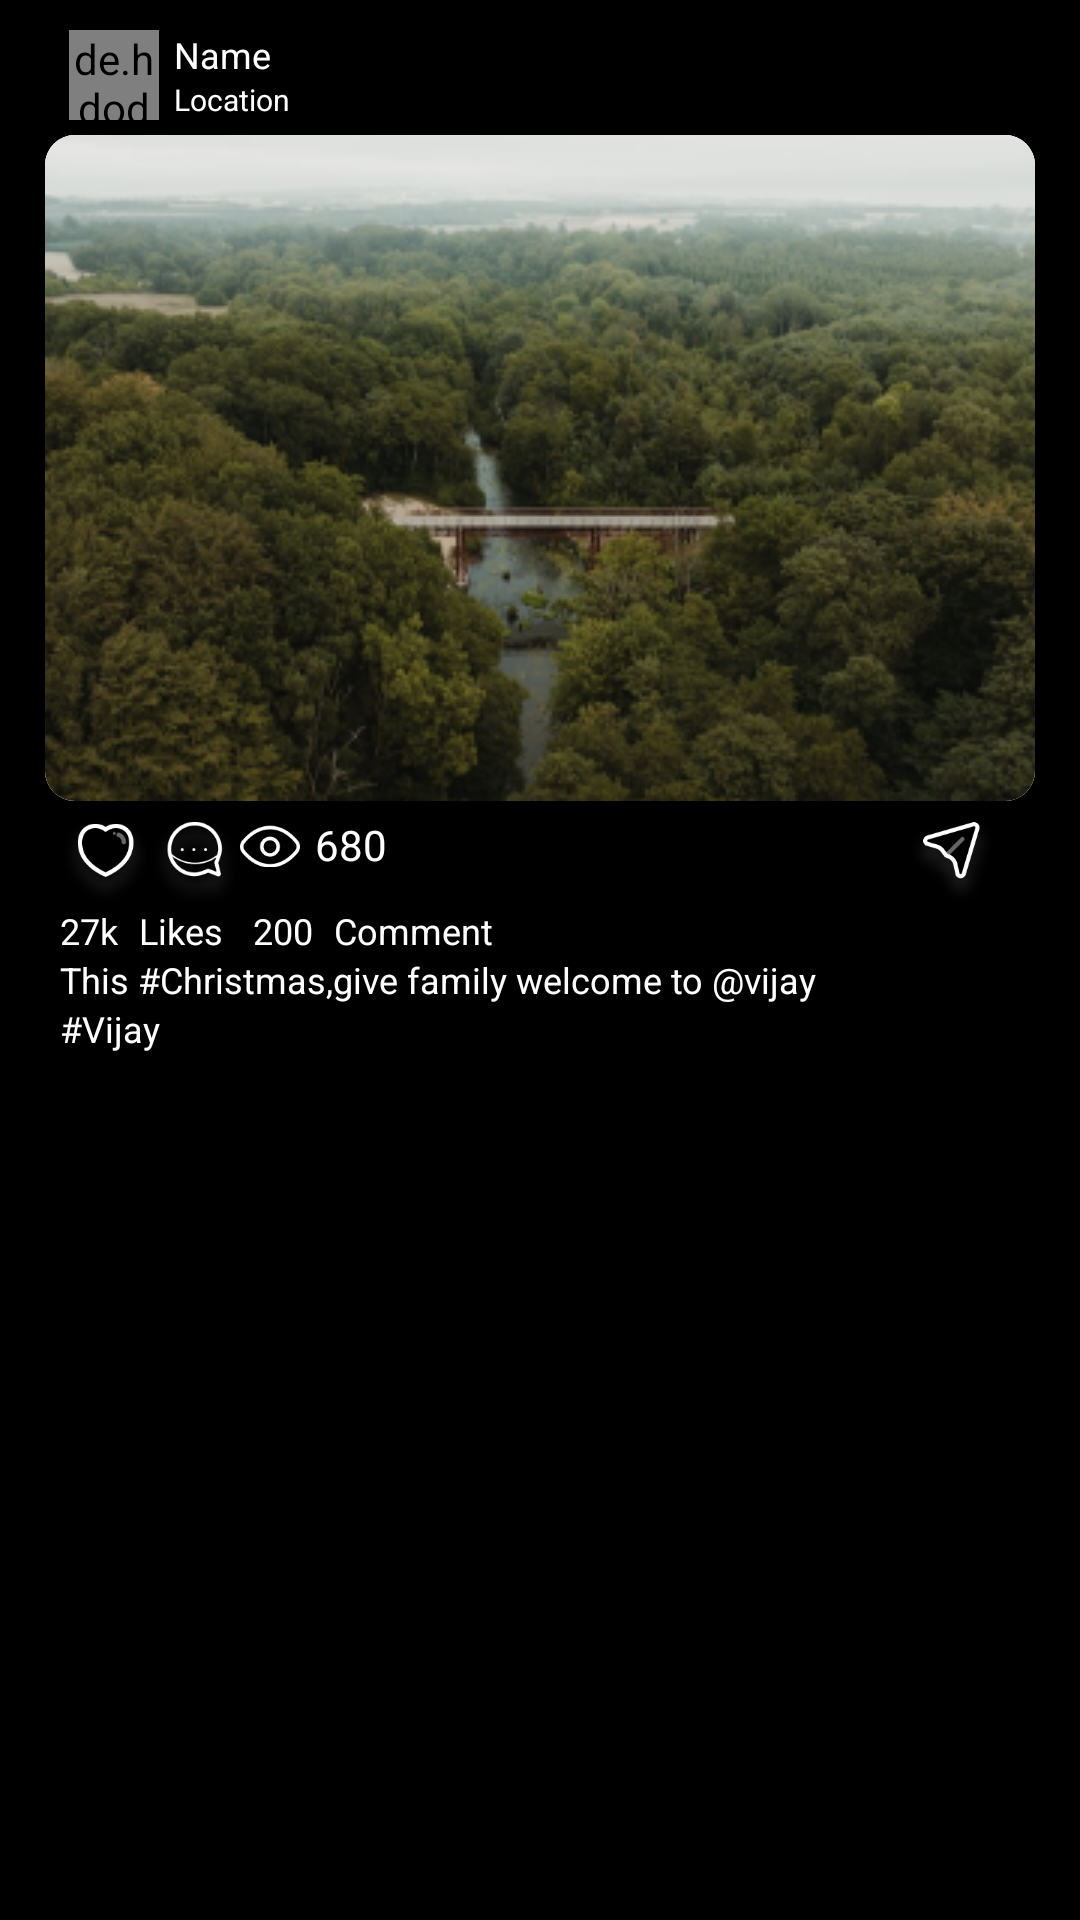

Locate icon controls on the screen. Image size 1080x1920, boxes as (x1, y1, x2, y2).
heart: (78, 824, 134, 877)
send: (923, 822, 980, 879)
view: (240, 825, 300, 867)
